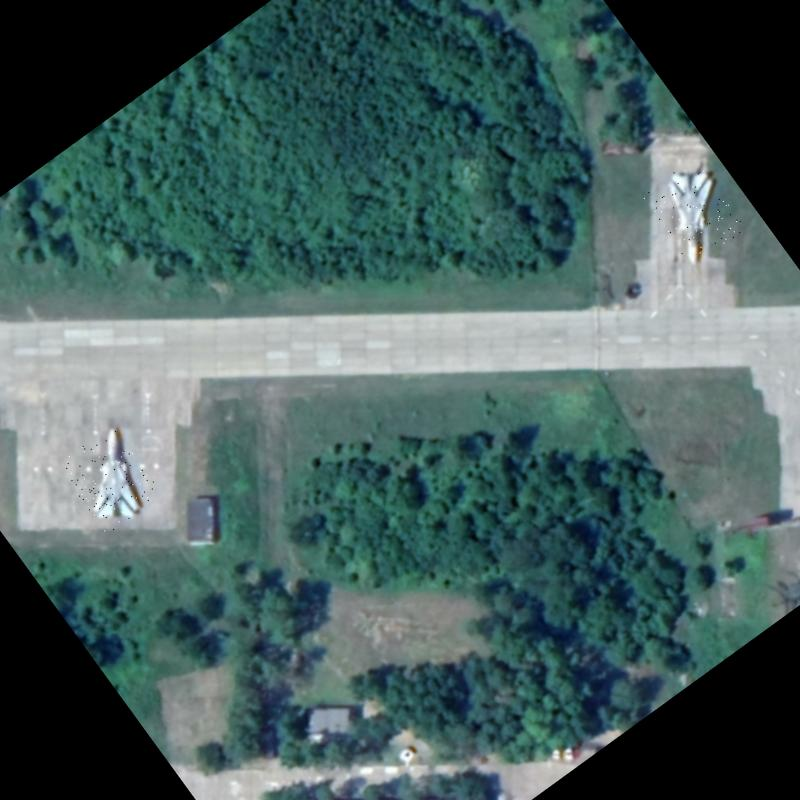A20: (55, 423, 164, 536), (638, 154, 746, 268)
